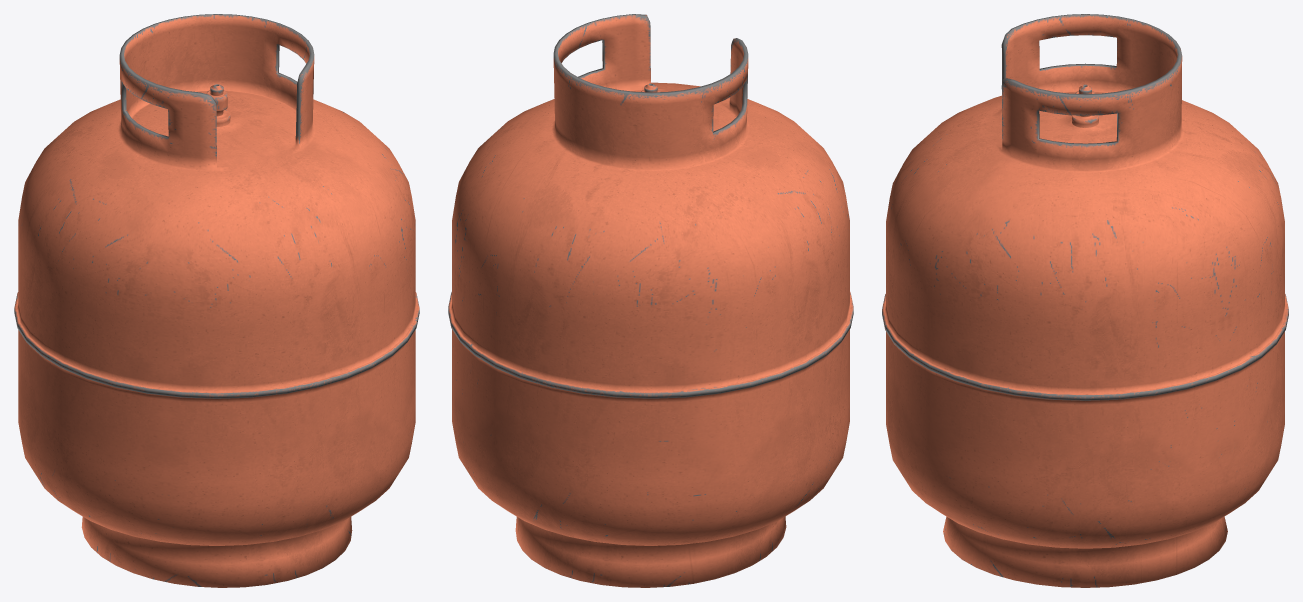
File: gas.obj
The picture shows the model from 3 angles, left to right: view 1: azimuth 30°, elevation 25°; view 2: azimuth 150°, elevation 25°; view 3: azimuth 270°, elevation 25°; orthographic projection.
Visible parts, largest first — view 1: C_psula; view 2: C_psula; view 3: C_psula.
Part boxes in pixels (x1,y1,x2,y2): C_psula: (14,14,419,587); C_psula: (448,14,853,587); C_psula: (882,14,1288,587).
Size of the model in its own units: 102 by 133 by 102.
1 material, 1 textured.
